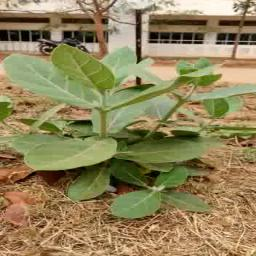CALOTROPIS: (8, 40, 255, 214)
